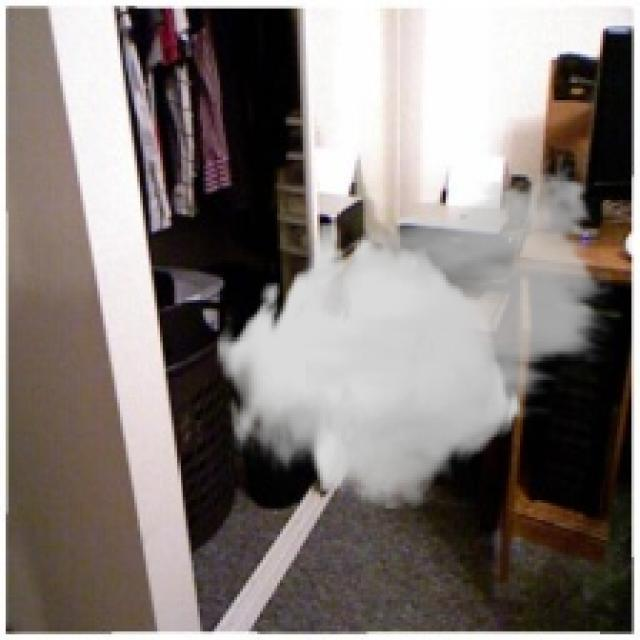Smoke: (215, 157, 614, 509)
